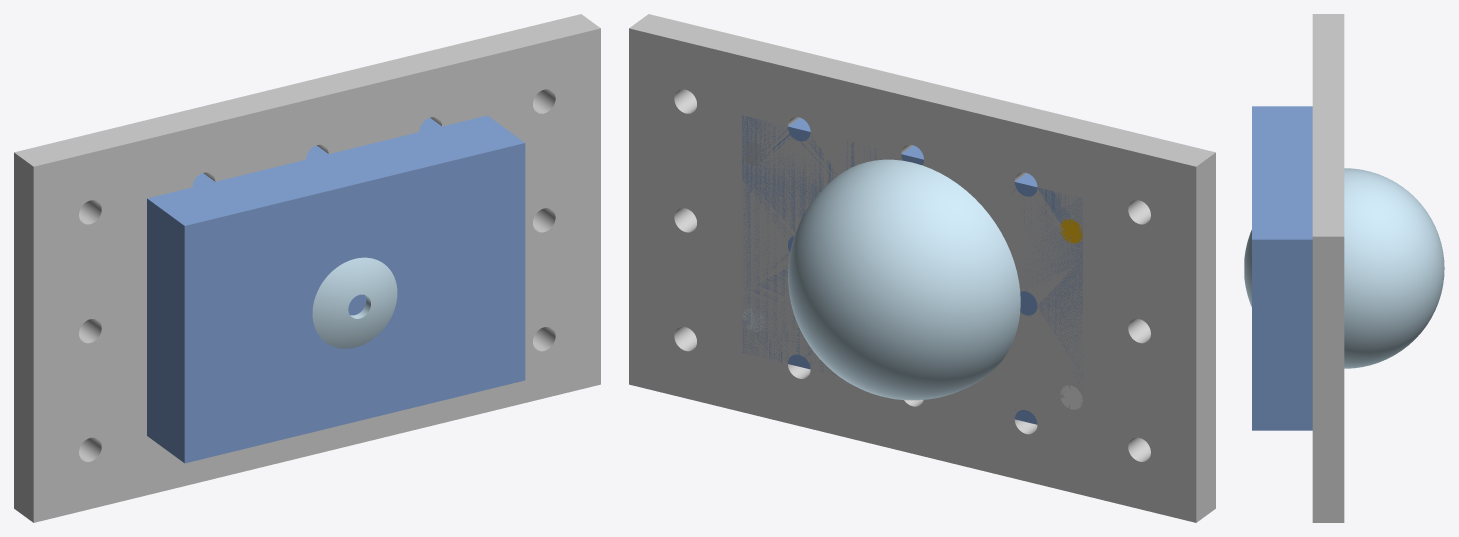
The picture shows the model from 3 angles, left to right: view 1: azimuth 30°, elevation 25°; view 2: azimuth 150°, elevation 25°; view 3: azimuth 270°, elevation 25°; orthographic projection. The views are drawn at different scales.
Parts seen in each view (by area): view 1: Part 2, Part 3, Part 1; view 2: Part 2, Part 1, Part 3; view 3: Part 3, Part 2, Part 1.
Part boxes in pixels (x1,y1,x2,y2): Part 2: (14, 14, 600, 522); Part 3: (147, 115, 525, 463); Part 1: (312, 257, 397, 348); Part 2: (629, 14, 1215, 522); Part 1: (788, 159, 1020, 400); Part 3: (742, 115, 1082, 434); Part 3: (1252, 106, 1312, 430); Part 2: (1312, 14, 1344, 522); Part 1: (1244, 168, 1444, 368).
Bounding box in the file's own units: 0.2 × 0.12 × 0.076.
